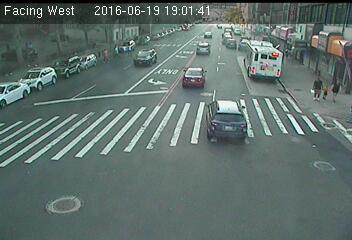neg: (113, 105, 142, 144), (63, 98, 87, 129), (223, 46, 241, 70), (91, 79, 107, 100), (184, 58, 197, 74), (144, 79, 156, 95)
pos: (330, 78, 351, 105), (304, 73, 324, 99), (100, 48, 112, 64), (111, 44, 122, 59), (126, 41, 137, 56)
